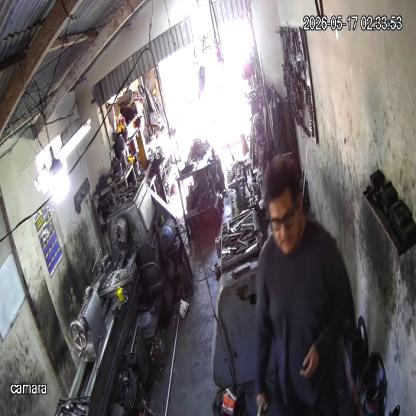lentes: (268, 206, 298, 237)
